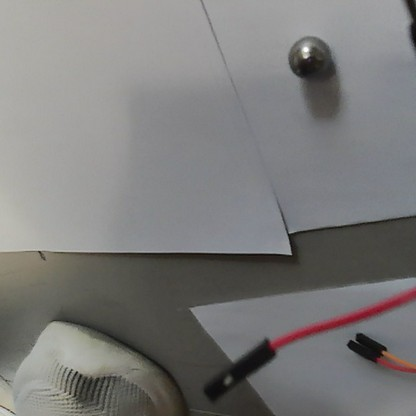ironball: (286, 34, 334, 80)
